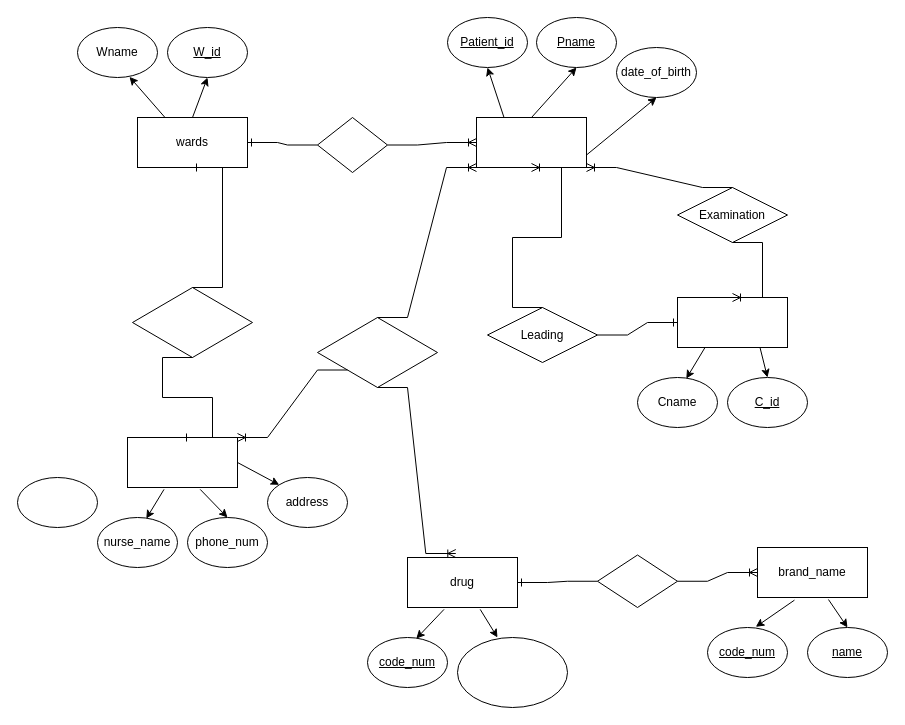
This 905x725 diagram has some shape labels left out. Here are the shapes that lost their labels. From the top down, the centre of each, then its label:
the point at 352,144: host
the point at 531,142: patients
the point at 192,322: Honored
the point at 732,322: consultants
the point at 377,352: adminstrate
the point at 182,462: Nurse
the point at 57,502: id
the point at 637,581: has
the point at 512,672: recommended dosage
